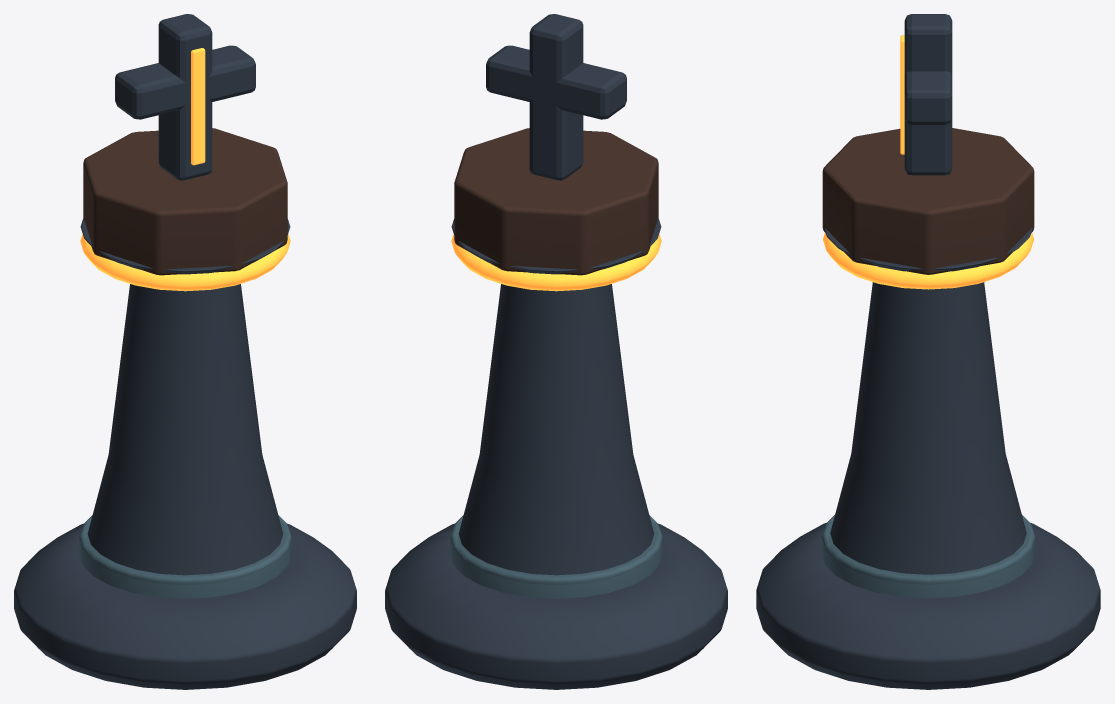
3 views of the same model, side by side, from view 1: azimuth 30°, elevation 25°; view 2: azimuth 150°, elevation 25°; view 3: azimuth 270°, elevation 25° (orthographic).
Parts seen in each view (by area): view 1: SciFi_k_b; view 2: SciFi_k_b; view 3: SciFi_k_b.
Part boxes in pixels (<box>): SciFi_k_b: <box>14,14,356,689</box>; SciFi_k_b: <box>385,14,727,689</box>; SciFi_k_b: <box>756,14,1100,689</box>.
Size of the model in its own units: 0.58 by 1.12 by 0.58.
